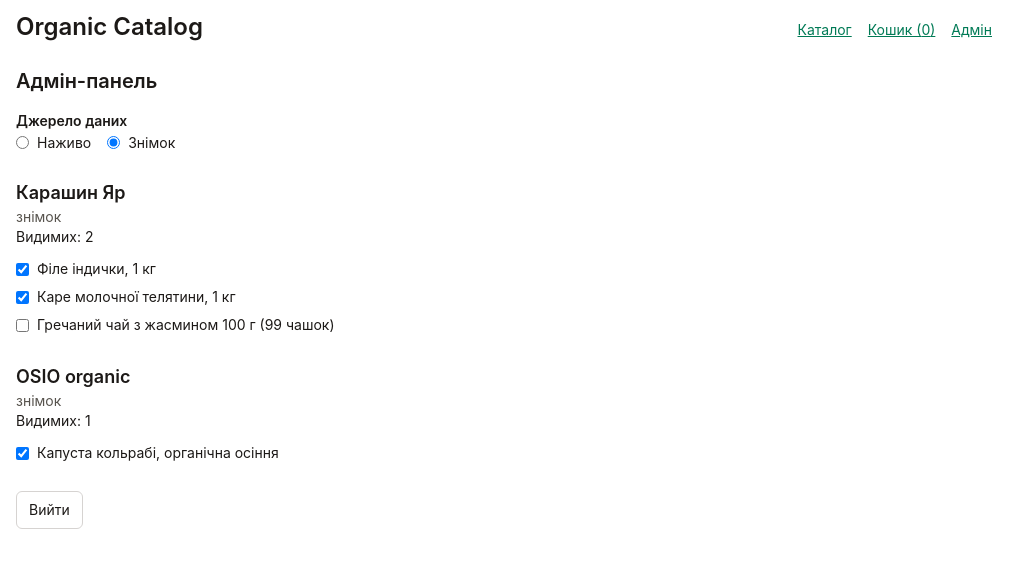
Test case: Data source switch › Save failure clears the earlier success
Click the radio button labelled "Наживо" at (22, 142), box top-left (16, 136), bottom-right (29, 149)
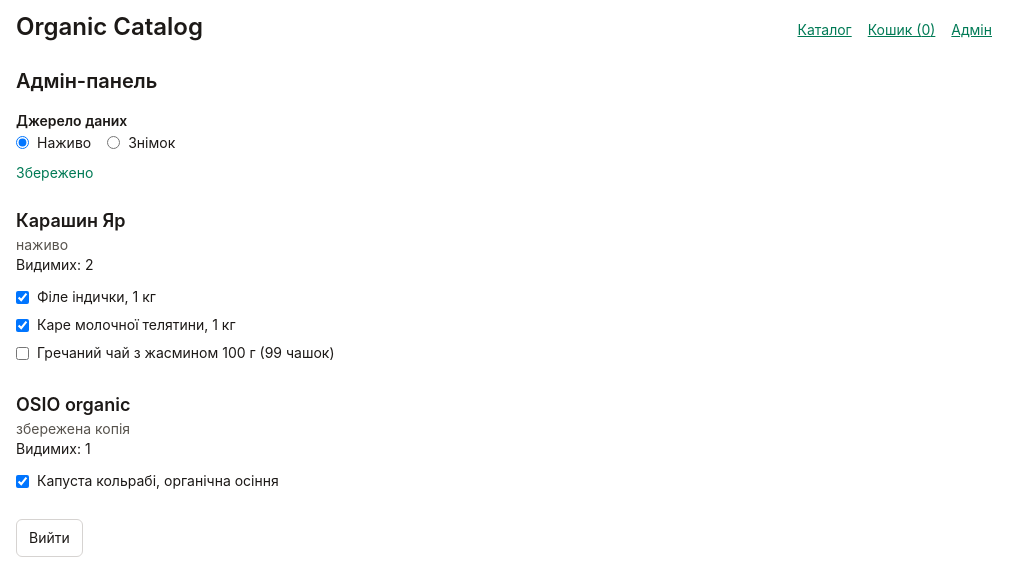
Result: the message reads "Збережено" at top-left (16, 164), bottom-right (93, 181)
Click the radio button labelled "Знімок" at (114, 142), box top-left (107, 136), bottom-right (120, 149)
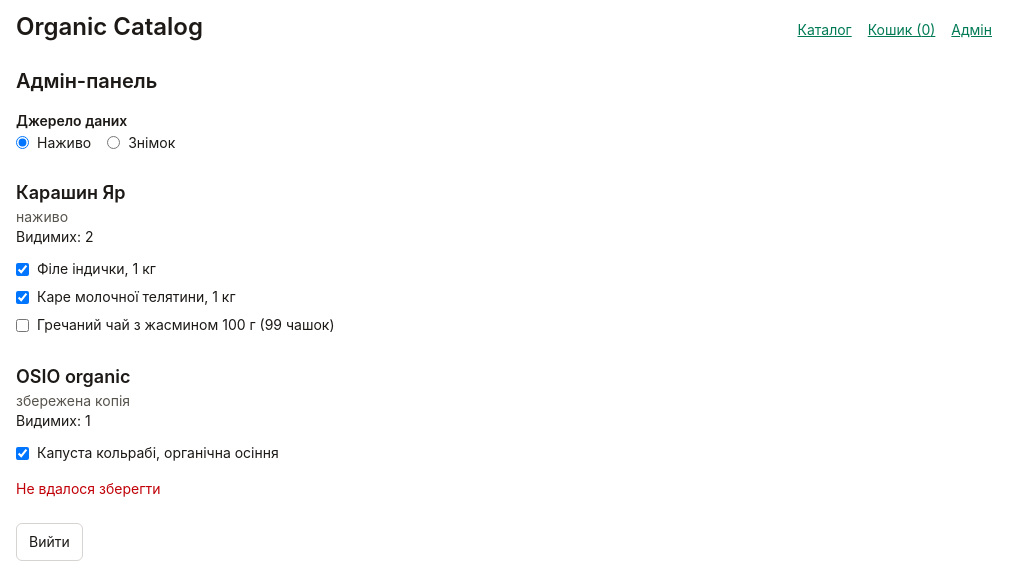
Result: the radio button labelled "Наживо" is checked at top-left (16, 136), bottom-right (29, 149)
Result: the message reads "Не вдалося зберегти" at top-left (16, 480), bottom-right (160, 497)
Result: the text "Збережено" is gone
